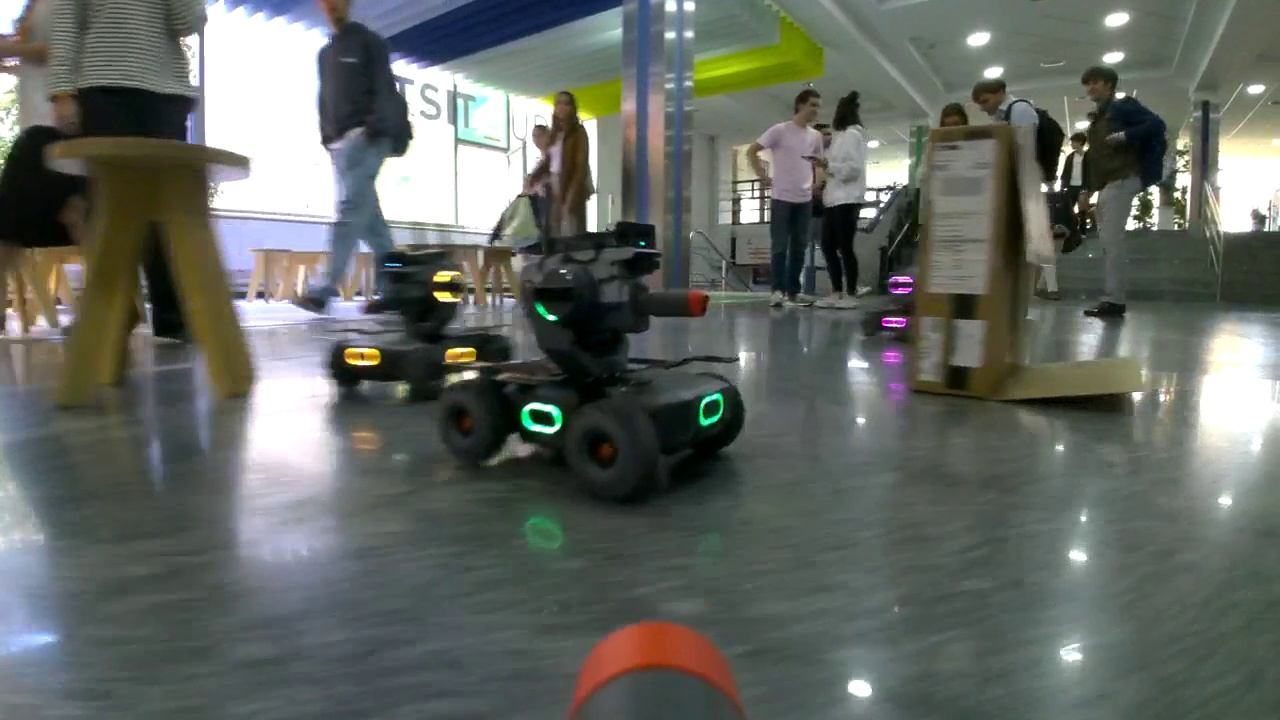robot: (426, 240, 745, 499), (321, 240, 508, 390), (845, 263, 932, 342)
